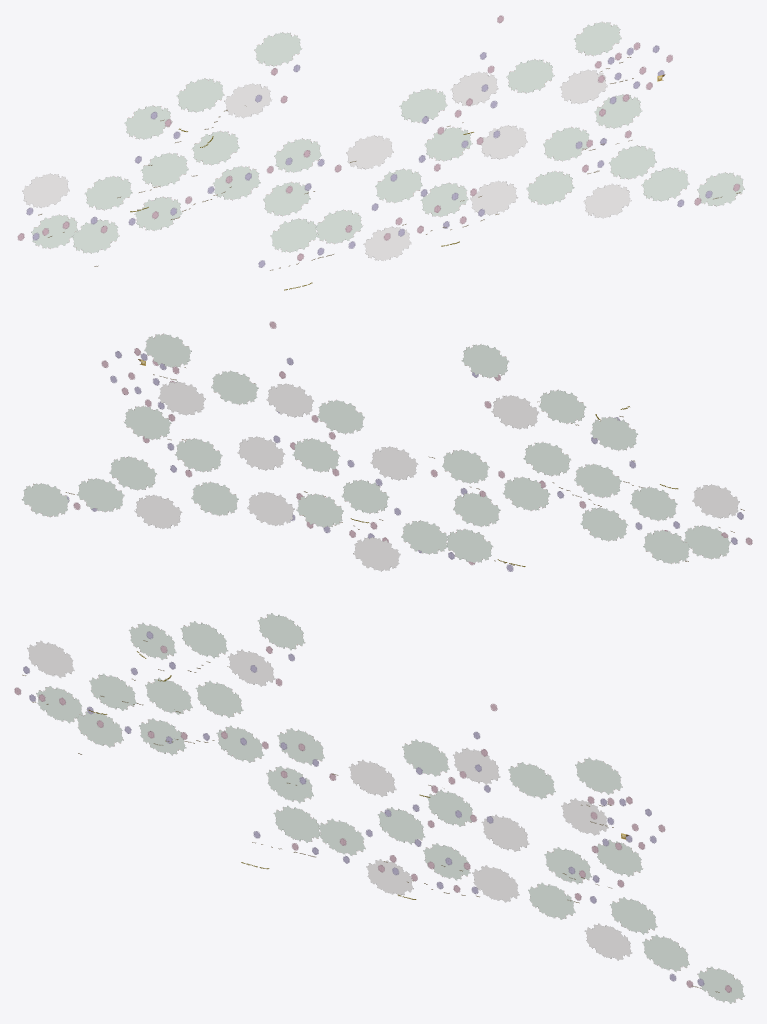
File: kinoko03_bg.glb
The picture shows the model from 3 angles, top to bottom: view 1: azimuth 30°, elevation 25°; view 2: azimuth 150°, elevation 25°; view 3: azimuth 330°, elevation 25°; orthographic projection.
Visible parts, largest first — view 1: kinoko03_bg; view 2: kinoko03_bg; view 3: kinoko03_bg.
Part boxes in pixels (box(x1,y1,x2,y2)): kinoko03_bg: box(17, 15, 744, 290); kinoko03_bg: box(22, 321, 752, 571); kinoko03_bg: box(14, 613, 744, 1003).
Bounding box in the file's own units: 5477 × 1994 × 296.
Materials: 7 (7 with a texture image).
